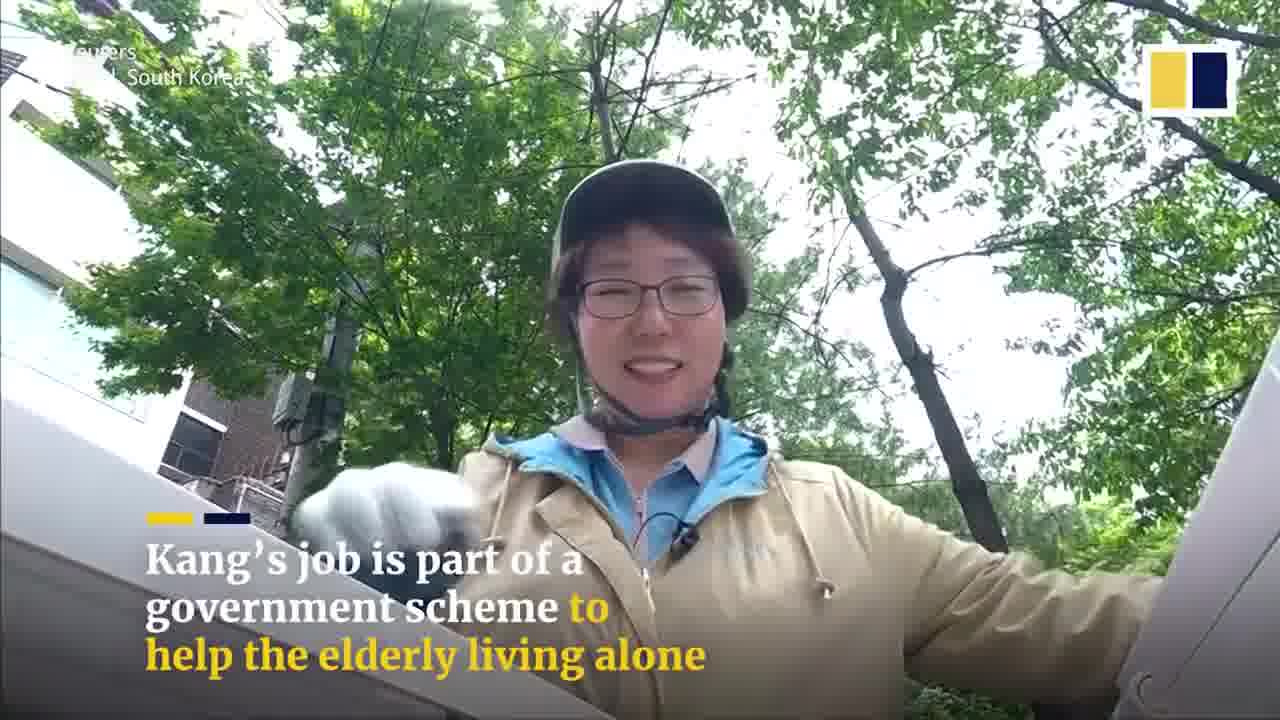Yakurut: (271, 157, 1154, 720)
